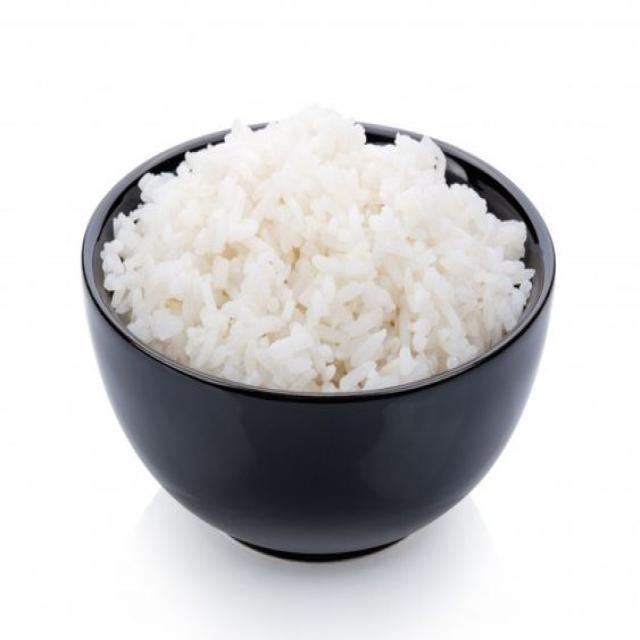nasi_putih: (84, 104, 560, 420)
